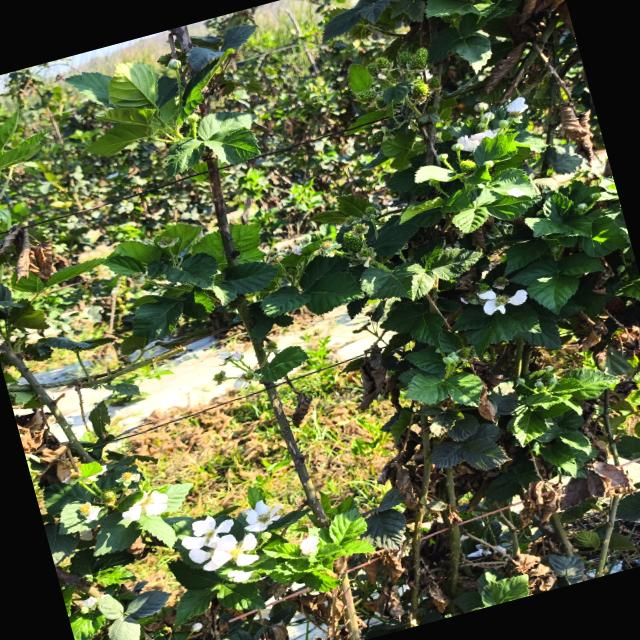boton: (474, 102, 489, 112), (483, 111, 494, 122), (498, 119, 509, 127), (437, 153, 448, 161), (483, 159, 494, 166)
flor: (204, 532, 258, 570), (183, 516, 233, 548), (122, 489, 168, 520), (479, 289, 527, 314), (243, 500, 280, 532), (457, 130, 498, 152), (506, 96, 528, 117)
